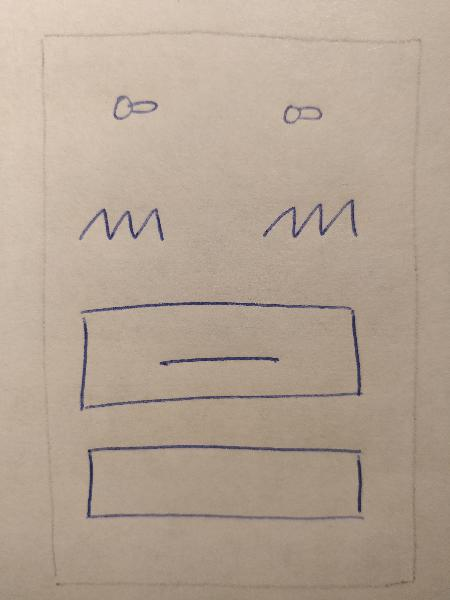button: (71, 291, 366, 414)
switch: (100, 81, 169, 127), (273, 92, 339, 136)
text: (256, 187, 367, 247), (68, 195, 175, 248)
text_input: (77, 438, 375, 530)
